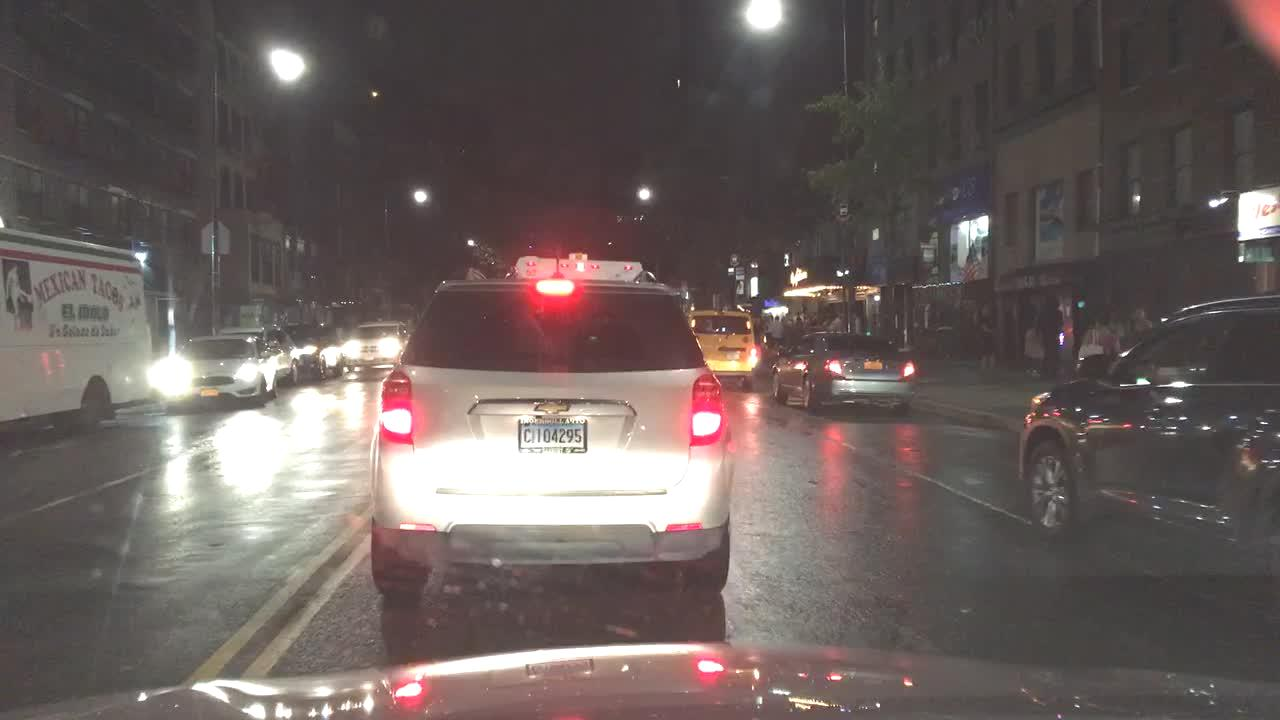chevrolet: (523, 392, 580, 420)
